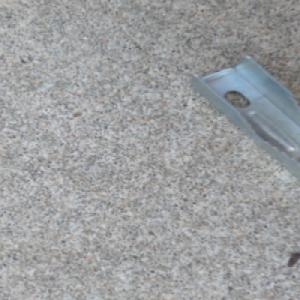ClampPart: (182, 52, 300, 183)
